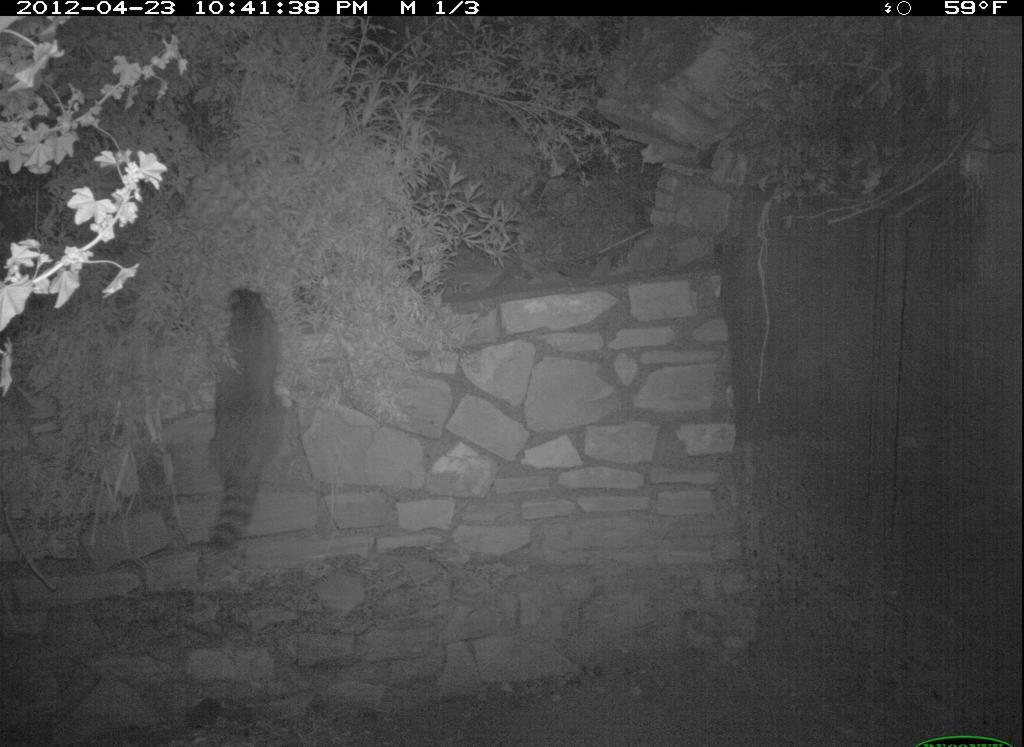raccoon: (186, 277, 294, 564)
